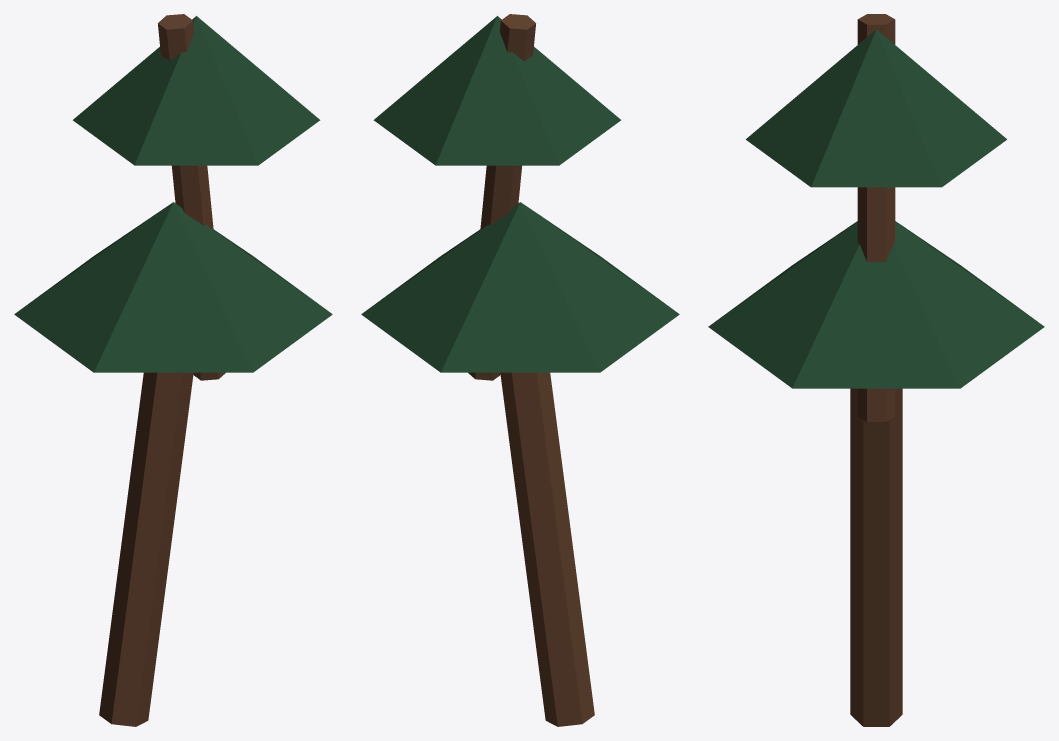
The model's file is pine_crooked.glb.
3 renders of one model, left to right at view 1: azimuth 30°, elevation 25°; view 2: azimuth 150°, elevation 25°; view 3: azimuth 270°, elevation 25°, orthographic. The views are drawn at different scales.
Visible parts, largest first — view 1: PineCrooked; view 2: PineCrooked; view 3: PineCrooked.
Boxes of the visible parts, x1,y1,x2,y2 form: PineCrooked: [14, 14, 332, 726]; PineCrooked: [361, 14, 679, 726]; PineCrooked: [708, 14, 1044, 726].
Bounding box in the file's own units: 3.12 × 8.57 × 3.6.
